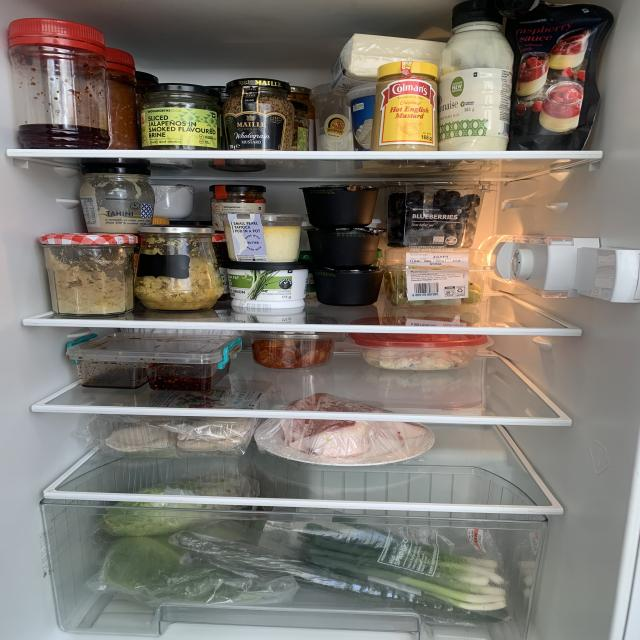blueberries: (392, 182, 476, 248)
spinach: (107, 479, 235, 534), (102, 540, 177, 589)
